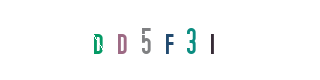3: (120, 0, 200, 80)
5: (109, 0, 189, 80)
D: (93, 0, 173, 80), (103, 0, 183, 80)
F: (118, 0, 198, 80)
I: (146, 0, 226, 80)
